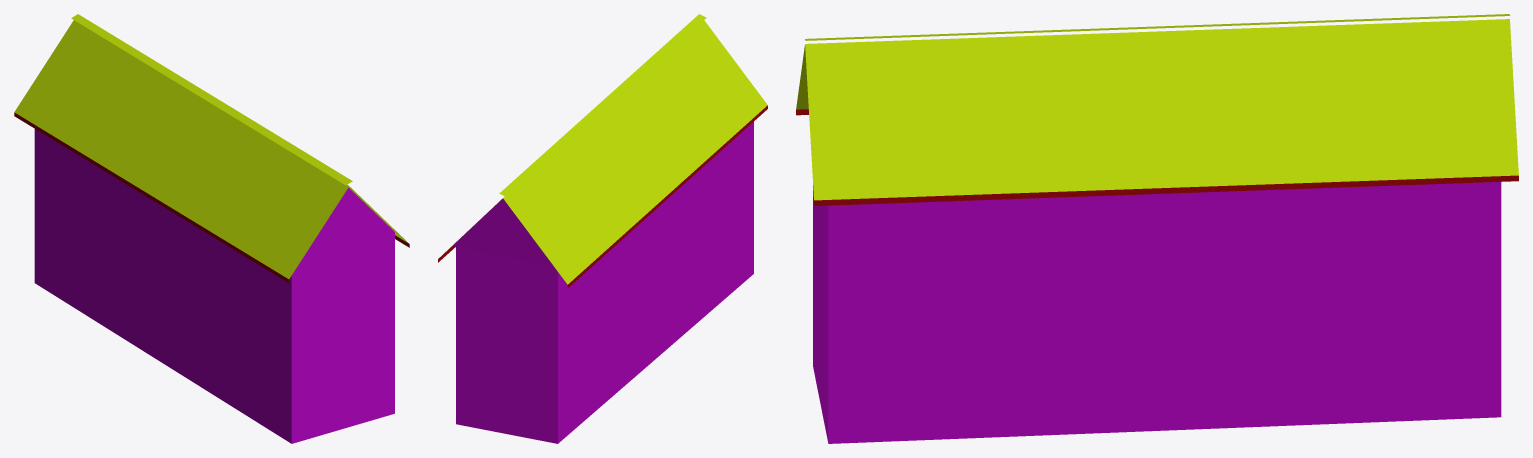
The model's file is atelier_pierre.glb.
3 views of the same model, side by side, from view 1: azimuth 30°, elevation 25°; view 2: azimuth 150°, elevation 25°; view 3: azimuth 270°, elevation 25° (orthographic). The views are drawn at different scales.
Parts seen in each view (by area): view 1: atelier_pierre; view 2: atelier_pierre; view 3: atelier_pierre.
Boxes of the visible parts, x1,y1,x2,y2 form: atelier_pierre: [14, 14, 409, 443]; atelier_pierre: [438, 14, 767, 443]; atelier_pierre: [796, 14, 1518, 443].
Size of the model in its own units: 5.23 by 7.74 by 13.8.
